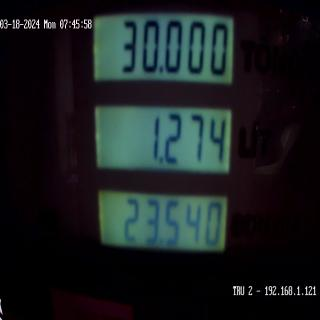screen: (89, 1, 241, 292)
